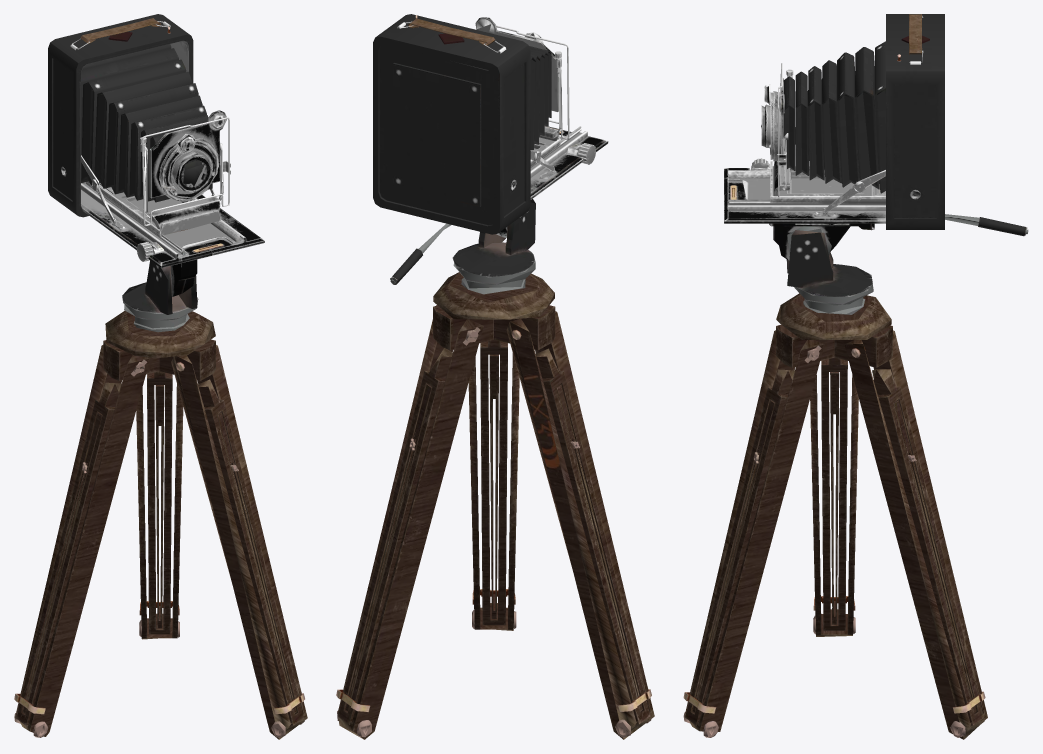
File: AntiqueCamera.lod1.glb
3 renders of one model, left to right at view 1: azimuth 30°, elevation 25°; view 2: azimuth 150°, elevation 25°; view 3: azimuth 270°, elevation 25°, orthographic. The views are drawn at different scales.
Parts seen in each view (by area): view 1: tripod, camera; view 2: tripod, camera; view 3: tripod, camera.
Boxes of the visible parts, <box> form: tripod: <box>14,259,307,739</box>; camera: <box>48,14,264,268</box>; tripod: <box>336,199,654,739</box>; camera: <box>373,14,608,234</box>; tripod: <box>683,214,1028,739</box>; camera: <box>724,14,944,229</box>.
Bounding box in the file's own units: 2.6 × 7.21 × 3.37.
Materials: 2 (2 with a texture image).
